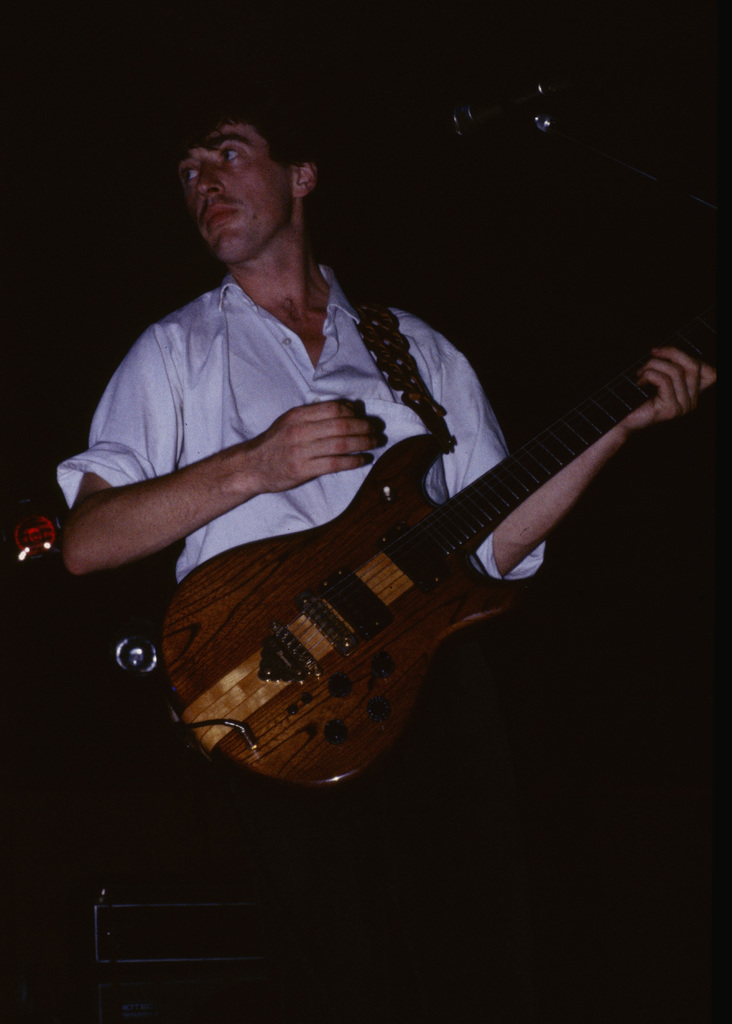Human_hand: (206, 385, 400, 510), (617, 346, 717, 430)
